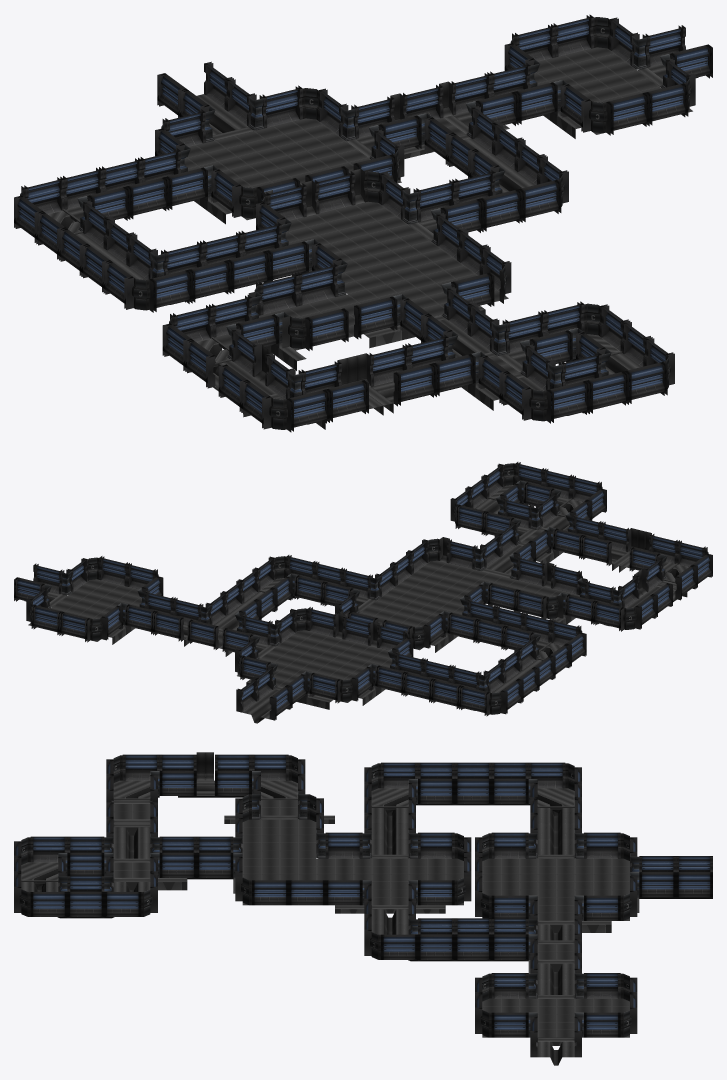
The model's file is Map 2_test.obj.
3 renders of one model, top to bottom at view 1: azimuth 30°, elevation 25°; view 2: azimuth 150°, elevation 25°; view 3: azimuth 270°, elevation 25°, orthographic. The views are drawn at different scales.
Visible parts, largest first — view 1: corridor_wallBase.031_Cube.087, corridor_wallBase.001_Cube.000, corridor_wallBase.043_Cube.109, corridor_wallBase.040_Cube.105, corridor_wallBase.051_Cube.123, corridor_wallBase.108_Cube.194, corridor_wallBase.007_Cube.007, corridor_wallBase.093_Cube.178, corridor_wallBase.061_Cube.140, corridor_wallBase.109_Cube.195, corridor_wallBase.069_Cube.152, corridor_wallBase.038_Cube.100 (+92 smaller); view 2: corridor_wallBase.011_Cube.015, corridor_wallBase.001_Cube.000, corridor_wallBase.012_Cube.017, corridor_wallBase.013_Cube.018, corridor_wallBase.073_Cube.156, corridor_wallBase.016_Cube.023, corridor_wallBase.077_Cube.160, corridor_wallBase.002_Cube.001, corridor_wallBase.046_Cube.115, corridor_wallBase.026_Cube.077, corridor_wallBase.098_Cube.183, corridor_wallBase.079_Cube.162 (+83 smaller); view 3: corridor_wallBase.037_Cube.099, corridor_wallBase.005_Cube.004, corridor_wallBase.033_Cube.093, corridor_wallBase.004_Cube.003, corridor_wallBase.063_Cube.142, corridor_wallBase.066_Cube.148, corridor_wallBase.041_Cube.106, corridor_wallBase.029_Cube.084, corridor_wallBase.021_Cube.028, corridor_wallBase.018_Cube.025, corridor_wallBase.081_Cube.164, corridor_wallBase.067_Cube.149 (+56 smaller).
Boxes of the visible parts, x1=… form: corridor_wallBase.031_Cube.087: x1=312, y1=171, x2=355, y2=214; corridor_wallBase.001_Cube.000: x1=354, y1=296, x2=397, y2=339; corridor_wallBase.043_Cube.109: x1=393, y1=363, x2=436, y2=406; corridor_wallBase.040_Cube.105: x1=305, y1=308, x2=348, y2=350; corridor_wallBase.051_Cube.123: x1=286, y1=389, x2=329, y2=432; corridor_wallBase.108_Cube.194: x1=546, y1=381, x2=589, y2=423; corridor_wallBase.007_Cube.007: x1=259, y1=85, x2=302, y2=128; corridor_wallBase.093_Cube.178: x1=149, y1=270, x2=192, y2=312; corridor_wallBase.061_Cube.140: x1=514, y1=82, x2=557, y2=124; corridor_wallBase.109_Cube.195: x1=624, y1=362, x2=667, y2=404; corridor_wallBase.069_Cube.152: x1=551, y1=14, x2=594, y2=57; corridor_wallBase.038_Cube.100: x1=297, y1=263, x2=338, y2=305; corridor_wallBase.011_Cube.015: x1=342, y1=615, x2=373, y2=645; corridor_wallBase.001_Cube.000: x1=516, y1=556, x2=547, y2=586; corridor_wallBase.012_Cube.017: x1=307, y1=607, x2=338, y2=637; corridor_wallBase.013_Cube.018: x1=187, y1=619, x2=218, y2=649; corridor_wallBase.073_Cube.156: x1=309, y1=673, x2=340, y2=703; corridor_wallBase.016_Cube.023: x1=153, y1=611, x2=183, y2=641; corridor_wallBase.077_Cube.160: x1=459, y1=686, x2=489, y2=716; corridor_wallBase.002_Cube.001: x1=446, y1=539, x2=477, y2=569; corridor_wallBase.046_Cube.115: x1=581, y1=535, x2=611, y2=565; corridor_wallBase.026_Cube.077: x1=294, y1=575, x2=325, y2=605; corridor_wallBase.098_Cube.183: x1=455, y1=505, x2=486, y2=535; corridor_wallBase.079_Cube.162: x1=475, y1=619, x2=506, y2=649; corridor_wallBase.037_Cube.099: x1=325, y1=832, x2=362, y2=858; corridor_wallBase.005_Cube.004: x1=491, y1=832, x2=528, y2=858; corridor_wallBase.033_Cube.093: x1=418, y1=832, x2=454, y2=858; corridor_wallBase.004_Cube.003: x1=584, y1=832, x2=620, y2=858; corridor_wallBase.063_Cube.142: x1=491, y1=973, x2=528, y2=998; corridor_wallBase.066_Cube.148: x1=491, y1=1012, x2=528, y2=1037; corridor_wallBase.041_Cube.106: x1=288, y1=880, x2=325, y2=905; corridor_wallBase.029_Cube.084: x1=325, y1=880, x2=362, y2=905; corridor_wallBase.021_Cube.028: x1=454, y1=934, x2=491, y2=959; corridor_wallBase.018_Cube.025: x1=491, y1=934, x2=528, y2=959; corridor_wallBase.081_Cube.164: x1=381, y1=934, x2=417, y2=959; corridor_wallBase.067_Cube.149: x1=584, y1=1012, x2=620, y2=1037.
Size of the model in its own units: 71.8 by 4 by 75.8.
